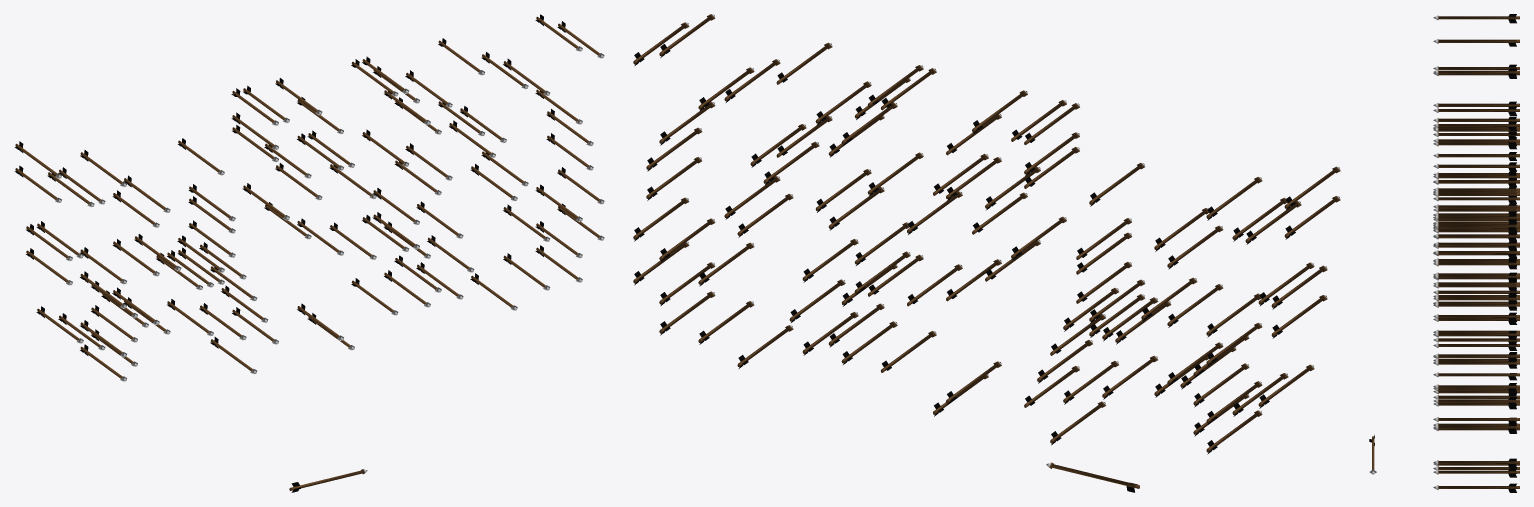
File: arrows.glb
3 renders of one model, left to right at view 1: azimuth 30°, elevation 25°; view 2: azimuth 150°, elevation 25°; view 3: azimuth 270°, elevation 25°, orthographic. The views are drawn at different scales.
Parts seen in each view (by area): view 1: no part large enough to name; view 2: no part large enough to name; view 3: arrow (×68).
Part boxes in pixels (x1,y1,x2,y2): arrow (×68): (1433,14,1519,492).
Size of what is drawn, in the model's own units: 33.64 by 20.27 by 8.26.
